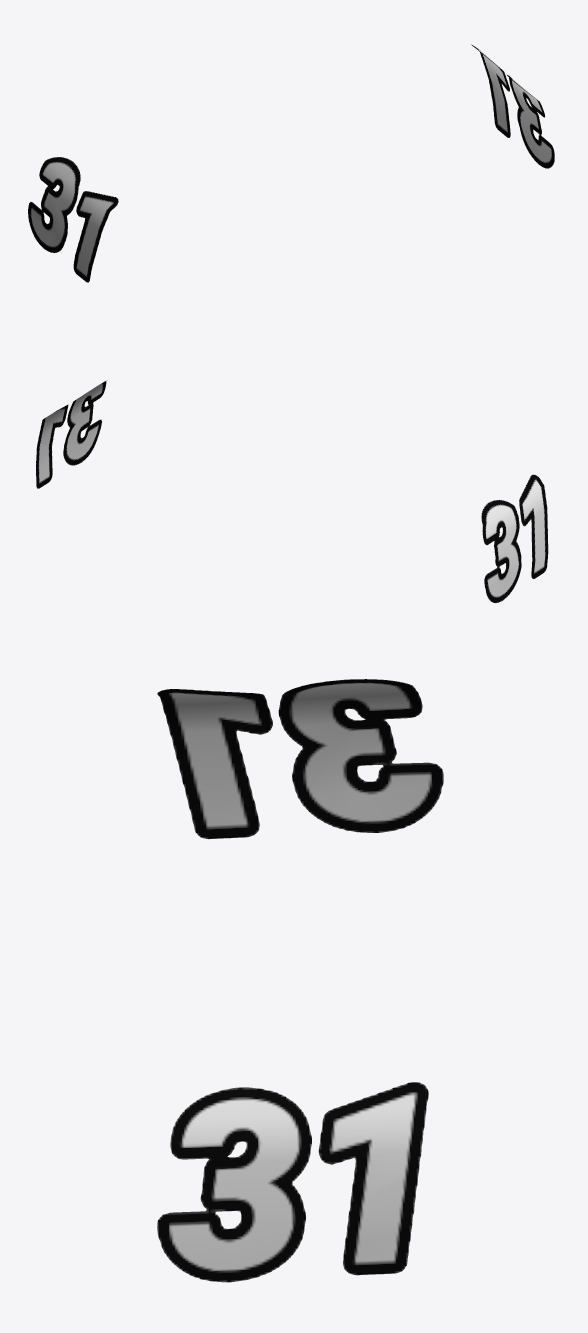
Rendered from Car_08_Decals.fbx.
3 renders of one model, top to bottom at view 1: azimuth 30°, elevation 25°; view 2: azimuth 150°, elevation 25°; view 3: azimuth 270°, elevation 25°, orthographic. The views are drawn at different scales.
Parts seen in each view (by area): view 1: Car_08_Decals; view 2: Car_08_Decals; view 3: Car_08_Decals.
Boxes of the visible parts, x1=… form: Car_08_Decals: x1=28, y1=44, x2=554, y2=282; Car_08_Decals: x1=36, y1=380, x2=548, y2=603; Car_08_Decals: x1=157, y1=679, x2=443, y2=1282.
Bounding box in the file's own units: 159 × 68.83 × 40.51.
